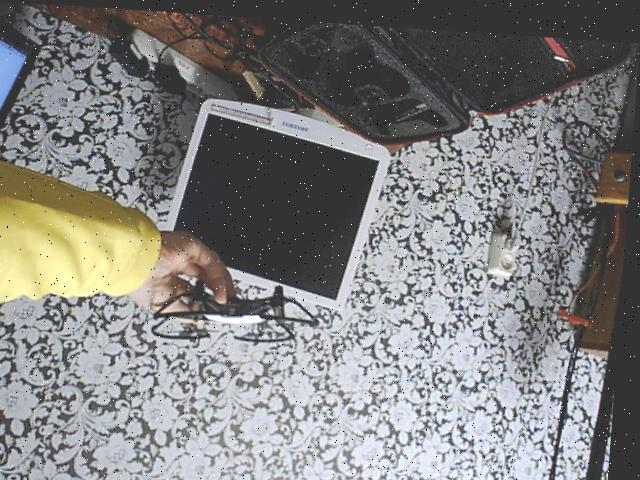drone: (144, 263, 333, 364)
